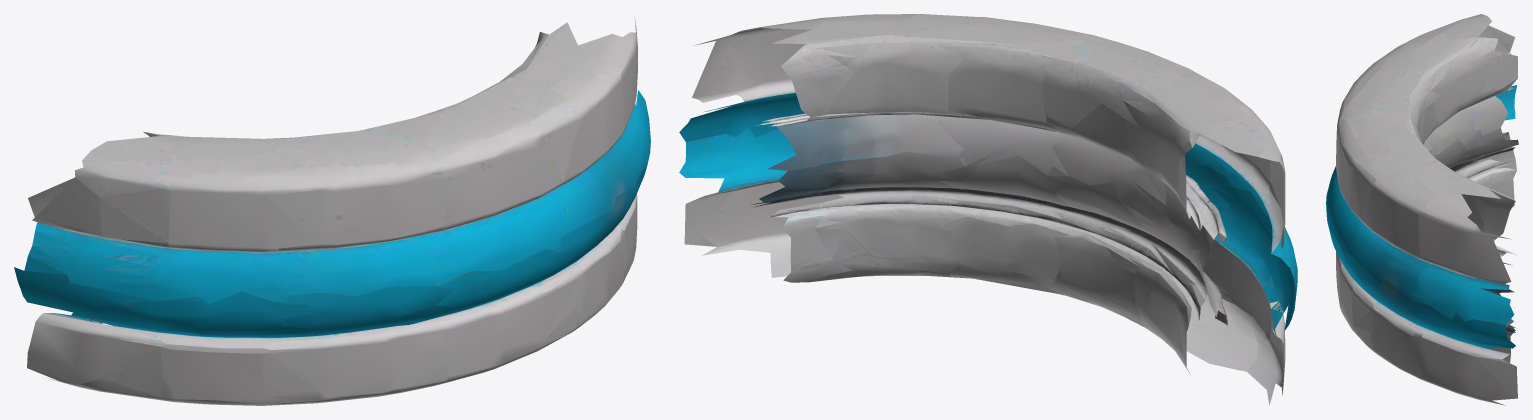
File: robot_visor.glb
3 views of the same model, side by side, from view 1: azimuth 30°, elevation 25°; view 2: azimuth 150°, elevation 25°; view 3: azimuth 270°, elevation 25° (orthographic). The views are drawn at different scales.
Visible parts, largest first — view 1: Mesh_0; view 2: Mesh_0; view 3: Mesh_0.
Part boxes in pixels (x1=…): Mesh_0: x1=14, y1=15, x2=650, y2=405; Mesh_0: x1=679, y1=14, x2=1297, y2=405; Mesh_0: x1=1326, y1=14, x2=1518, y2=405.
Bounding box in the file's own units: 1 × 0.3692 × 0.3382.
1 material, 1 textured.
